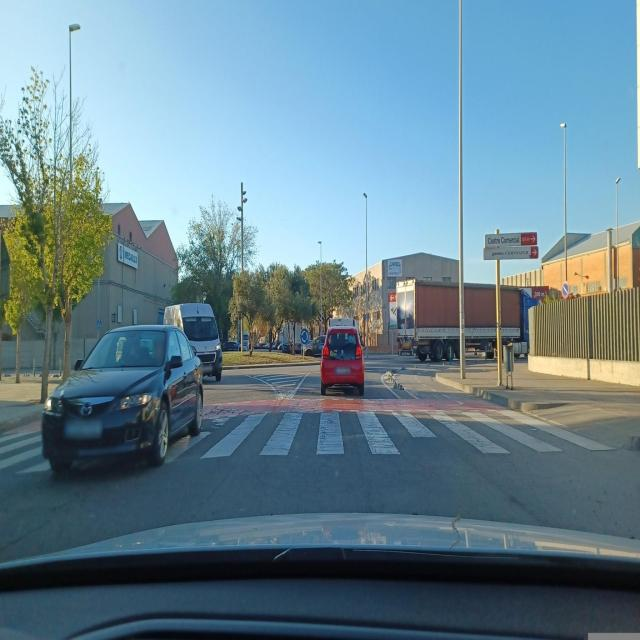forb_stopping: (562, 280, 570, 299)
